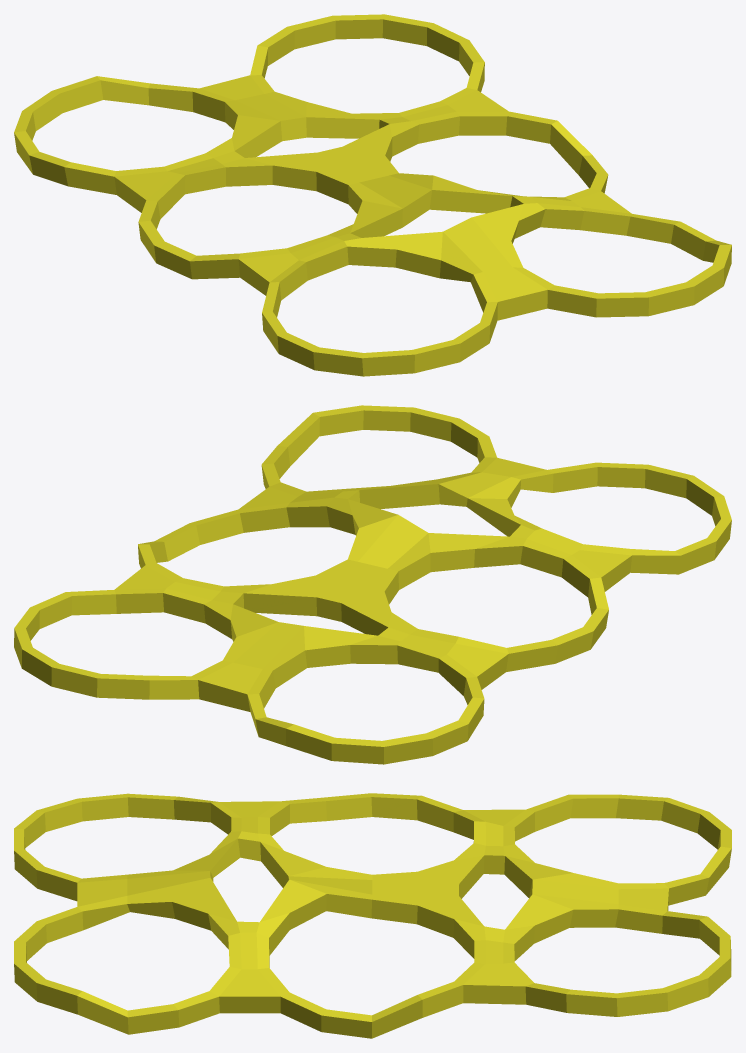
The model's file is PlasticRingsDebuff_FBX.fbx.
3 renders of one model, top to bottom at view 1: azimuth 30°, elevation 25°; view 2: azimuth 150°, elevation 25°; view 3: azimuth 270°, elevation 25°, orthographic.
Visible parts, largest first — view 1: PlasticRingsDebuff; view 2: PlasticRingsDebuff; view 3: PlasticRingsDebuff.
Part boxes in pixels (box(x1,y1,x2,y2)): PlasticRingsDebuff: box(14, 14, 731, 376); PlasticRingsDebuff: box(14, 405, 731, 764); PlasticRingsDebuff: box(14, 793, 731, 1038).
Bounding box in the file's own units: 24.15 × 3.45 × 34.54.
